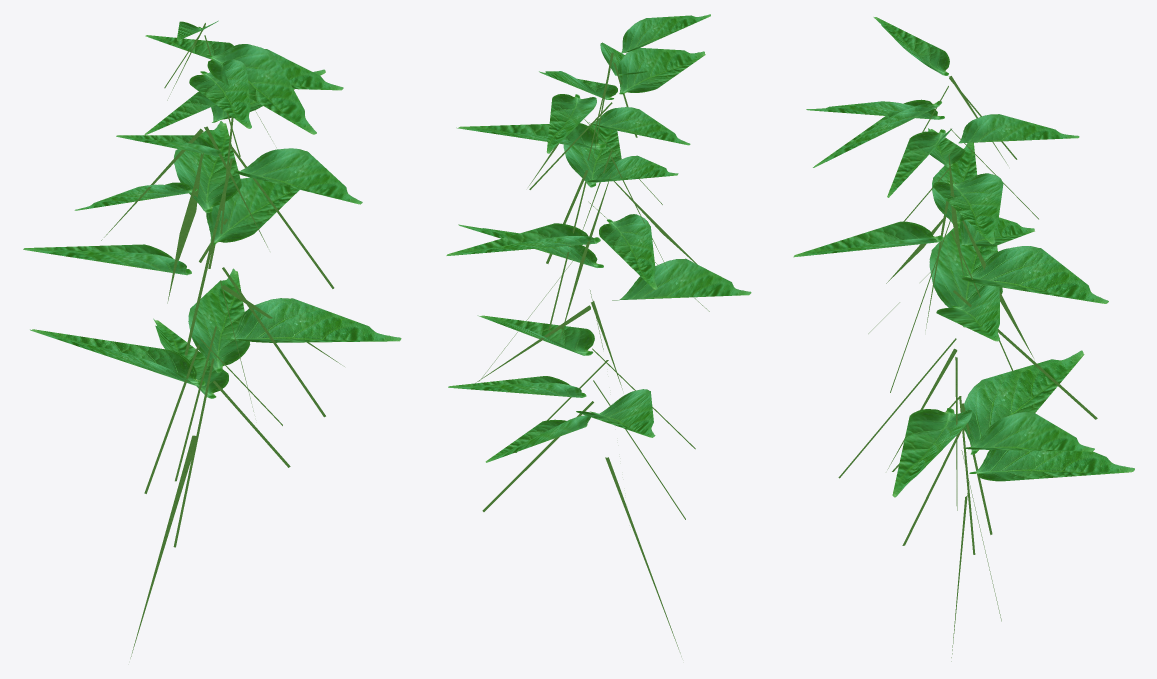
The model's file is Leafy Herb A.glb.
3 views of the same model, side by side, from view 1: azimuth 30°, elevation 25°; view 2: azimuth 150°, elevation 25°; view 3: azimuth 270°, elevation 25° (orthographic). The views are drawn at different scales.
Visible parts, largest first — view 1: Leafy Herb A; view 2: Leafy Herb A; view 3: Leafy Herb A.
Part boxes in pixels (bbox=[...]): Leafy Herb A: bbox=[23, 20, 401, 658]; Leafy Herb A: bbox=[446, 14, 751, 656]; Leafy Herb A: bbox=[793, 17, 1134, 661].
Size of the model in its own units: 0.6121 by 1.1 by 0.5443.
1 material, 1 textured.
